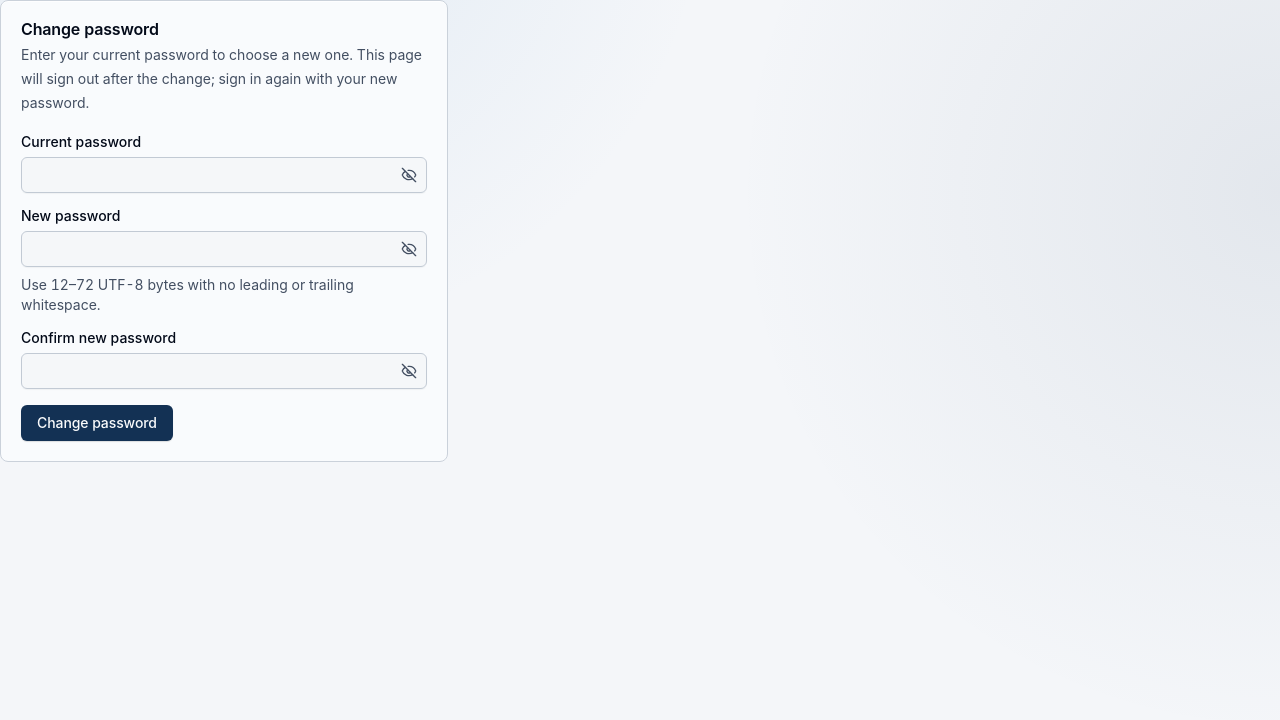
ChangePasswordPanel › validates required fields without sending a request
The width and height of the screenshot is (1280, 720).
Click the button "Change password".
click(97, 423)  # box [21,405,173,441]
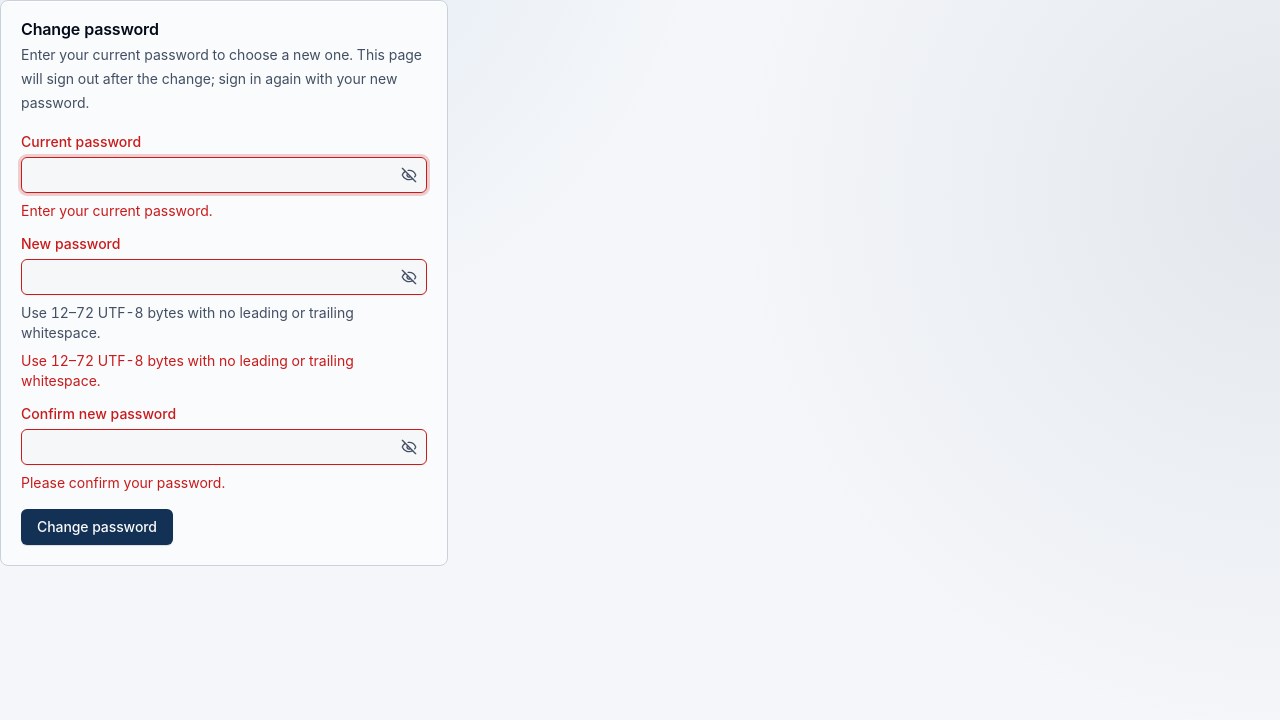
expect the text "Enter your current password." is shown: met, box [21,202,212,219]
expect the text "Please confirm your password." is shown: met, box [21,474,225,491]
